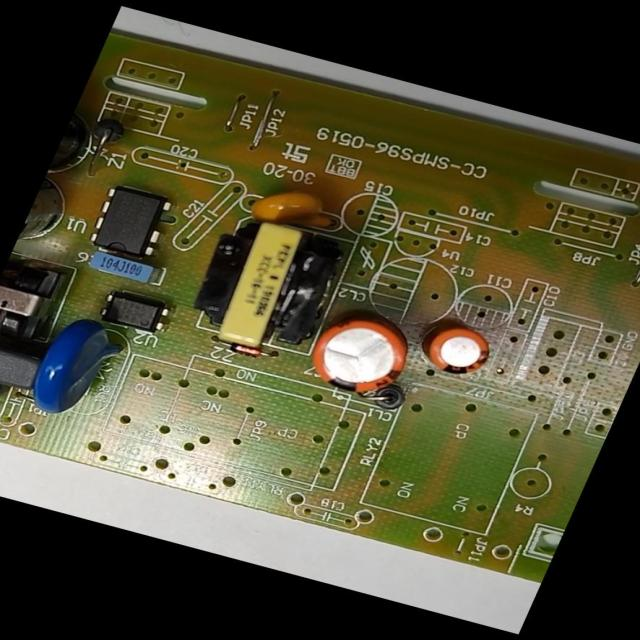Cap1: (293, 306, 420, 405)
Cap2: (414, 322, 495, 383)
Cap3: (8, 178, 78, 269)
MOSFET: (81, 181, 182, 266)
Mov: (19, 308, 134, 428)
Transformer: (174, 207, 355, 364), (0, 260, 71, 351)
